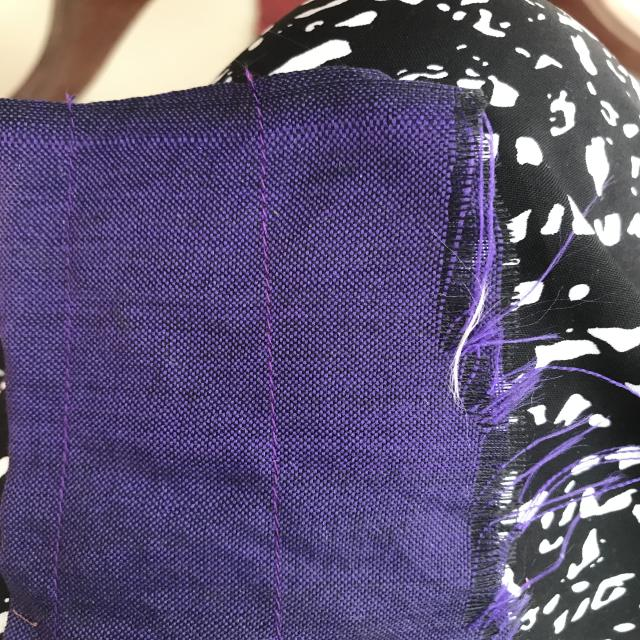good: (40, 400, 80, 568), (260, 290, 291, 496), (247, 155, 275, 237)
